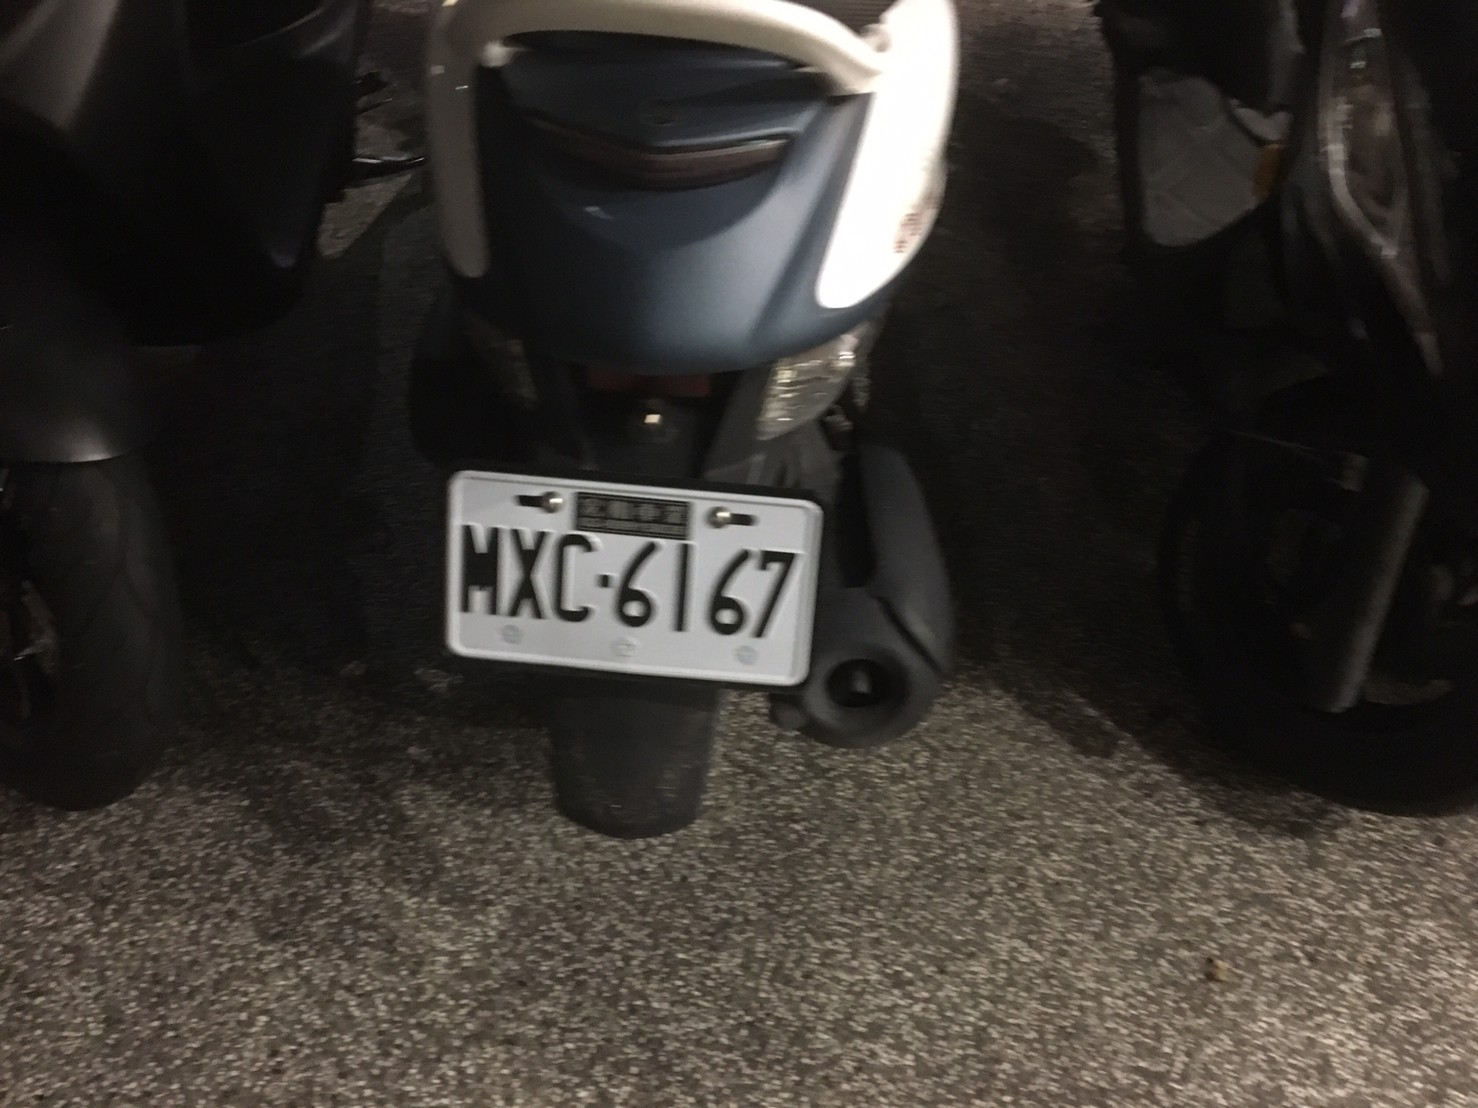LP: (438, 460, 816, 684)
